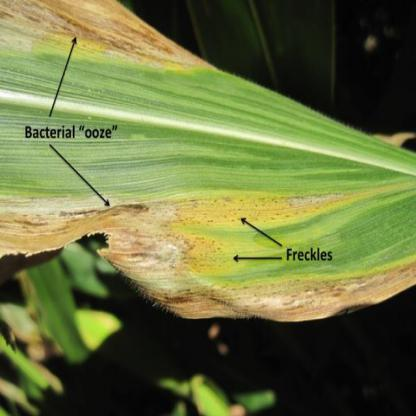corn leaf blight: (3, 3, 415, 312)
